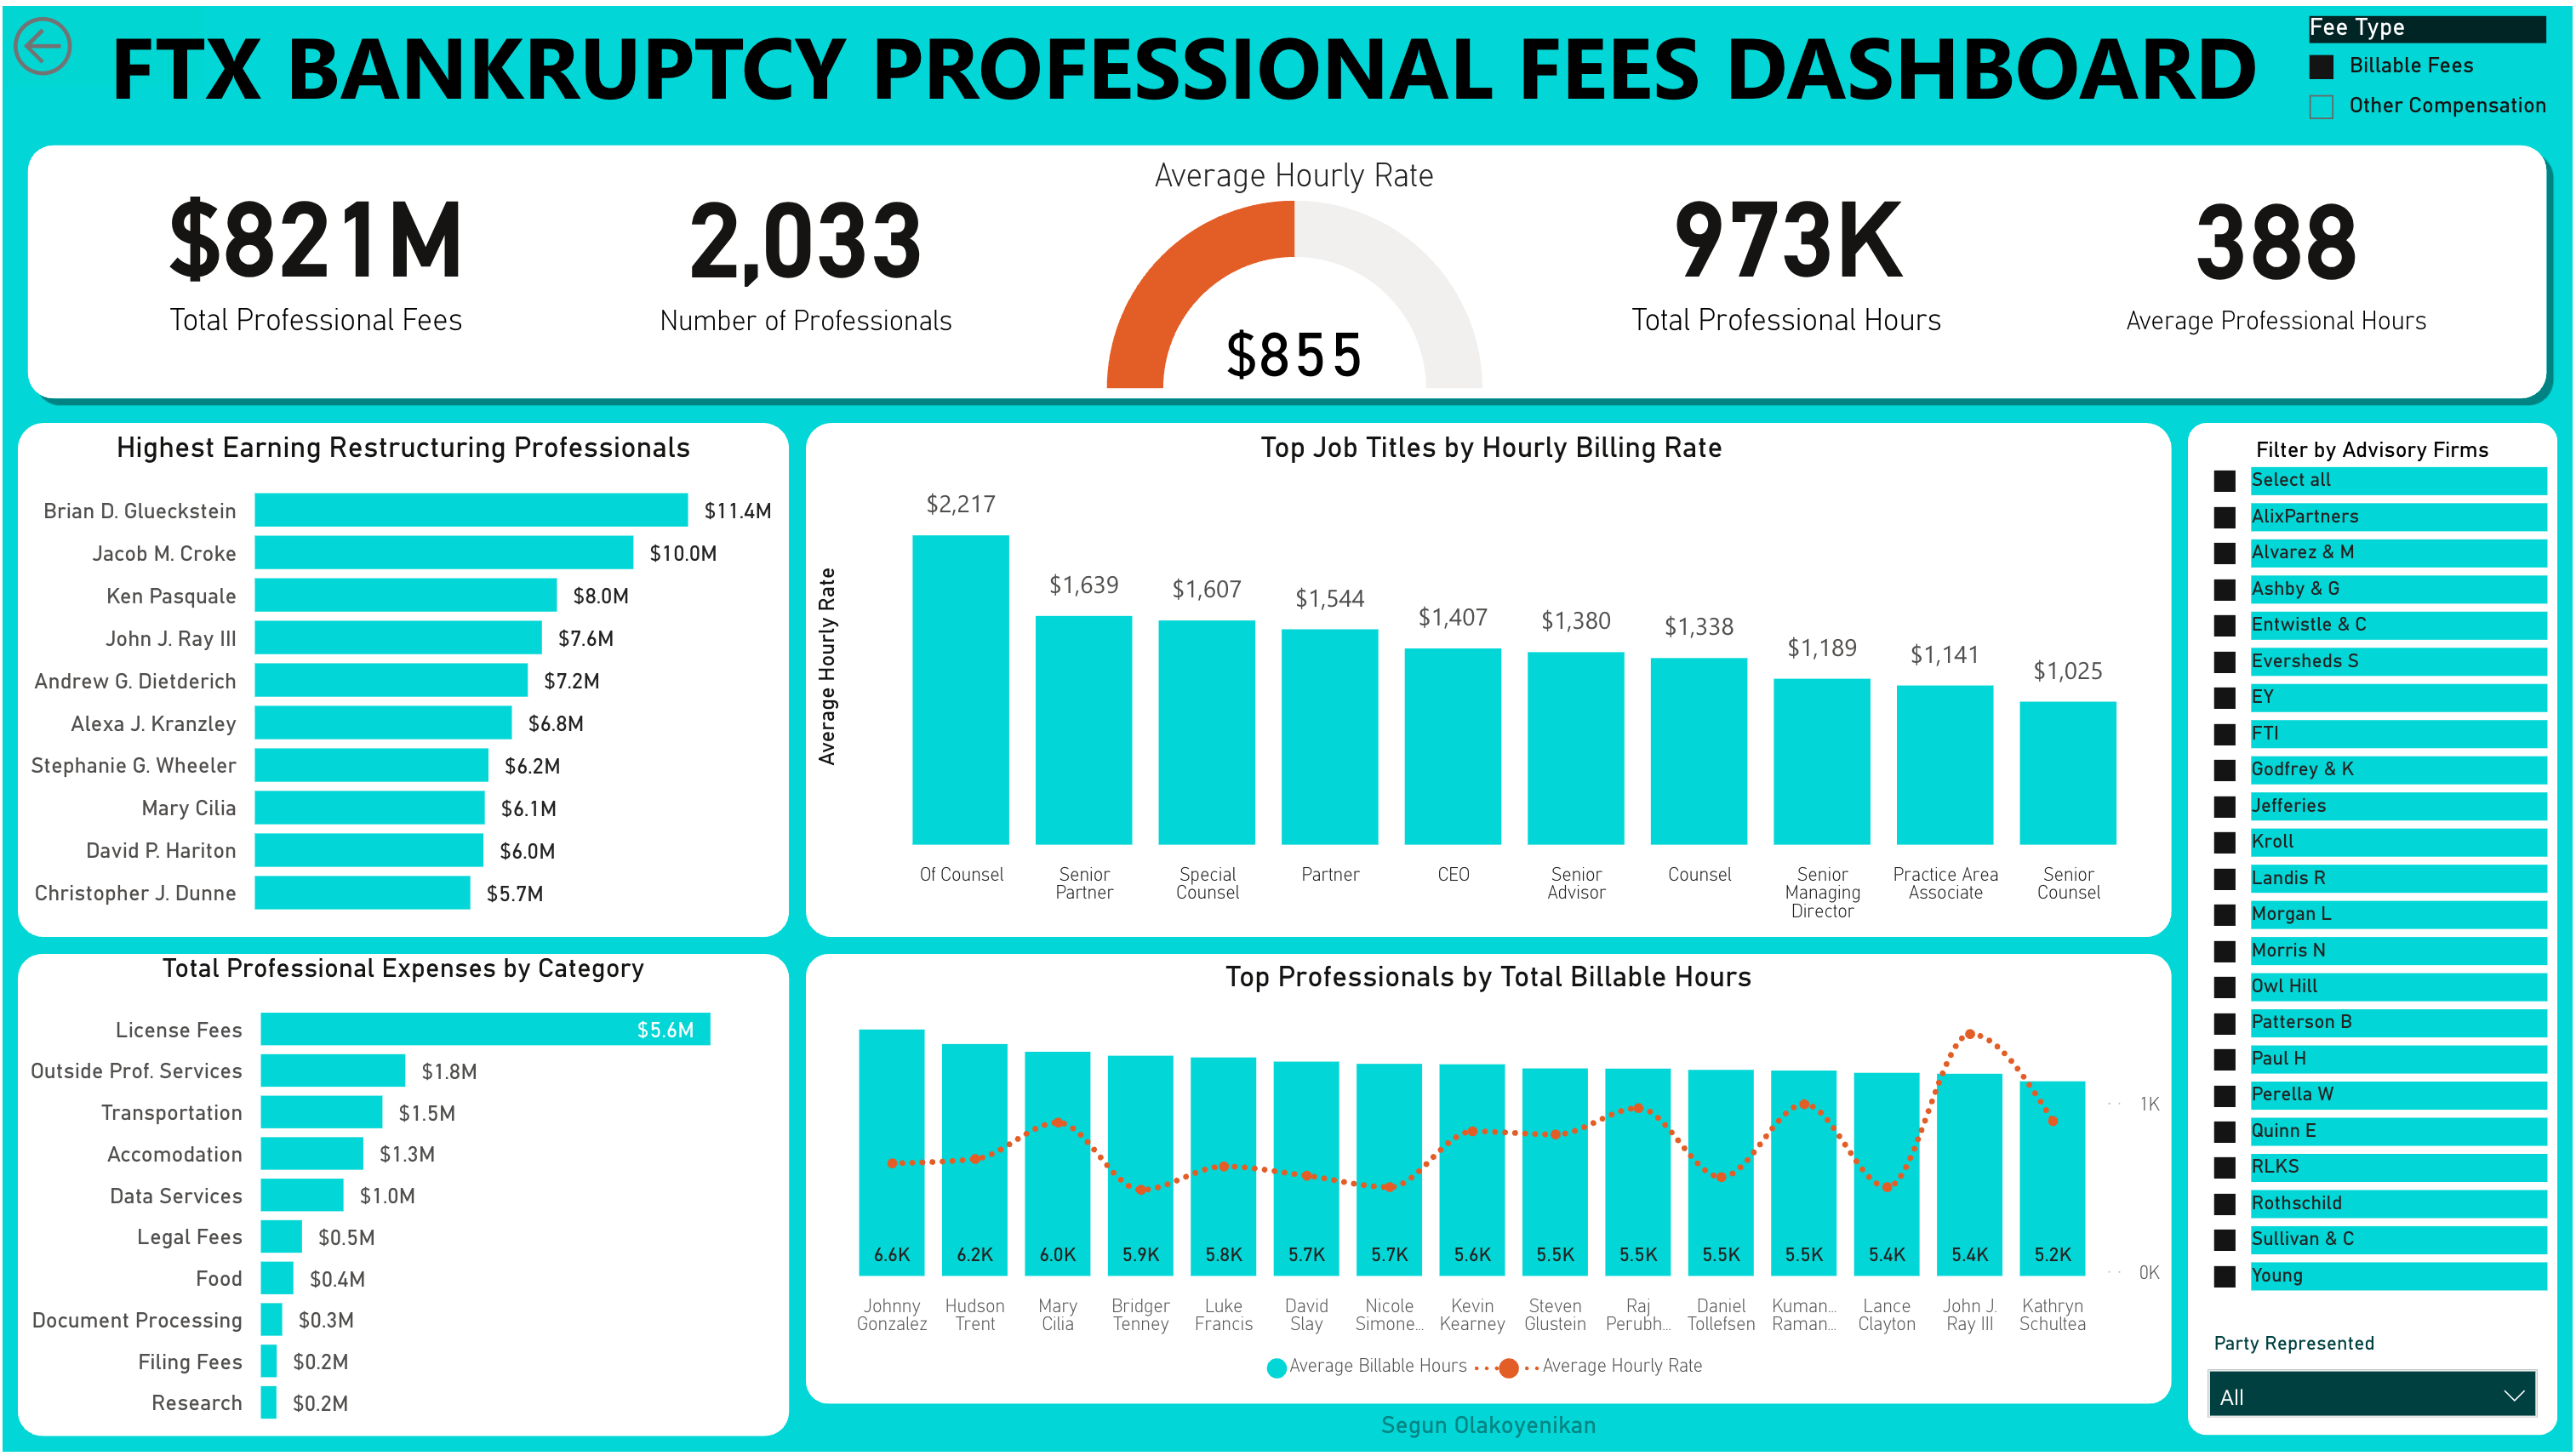

The page's visual inventory and layout, read from the dashboard file:
{"tool":"powerbi","page":{"name":"Professionals","canvas":[1280,720],"ordinal":1},"visuals":[{"type":"shape","box":[8,80,1264,120],"z":0},{"type":"cardVisual","fields":{"Data":["Count(Main1.Professional)"]},"box":[283.7,86.9,224,112],"z":1000},{"type":"shape","box":[8,208,360,504],"z":2000},{"type":"gauge","fields":{"Y":["Avg(Main1.Rate)"]},"box":[528,80,224,120],"z":3000},{"type":"cardVisual","fields":{"Data":["Sum(Main1.Fees)"]},"box":[43.7,86.9,224,112],"z":4000},{"type":"shape","box":[376,248,496,232],"z":5000},{"type":"shape","box":[376,488,496,184],"z":6000},{"type":"cardVisual","fields":{"Data":["Sum(Main1.Hours)"]},"box":[763.7,86.9,224,112],"z":7000},{"type":"shape","box":[880,208,392,504],"z":8000},{"type":"cardVisual","fields":{"Data":["Avg(Main1.Hours)"]},"box":[1003.7,86.9,224,112],"z":9000},{"type":"barChart","title":"Workforce across job titles","fields":{"Y":["Count(Main1.Professional)"],"Category":["main_title_short.Title"]},"box":[880,208,392,504],"z":10000},{"type":"textbox","box":[0,0,1152,80],"z":11000},{"type":"actionButton","box":[0,0,64,48],"z":12000},{"type":"barChart","title":"Top earning restructuring professionals ","fields":{"Category":["Main1.Professional"],"Y":["Sum(Main1.Fees)"]},"box":[8,208,360,504],"z":13000},{"type":"clusteredColumnChart","title":"Job titles where professionals charge the highest rate","fields":{"Category":["main_title_short.Title"],"Y":["Avg(Main1.Rate)"]},"box":[376,248,496,232],"z":14000},{"type":"slicer","fields":{"Values":["title_unique.Advisor"]},"box":[376,200,496,48],"z":15000},{"type":"actionButton","box":[1152,0,128,48],"z":16000},{"type":"clusteredColumnChart","title":"How top earning professionals charge per hour","fields":{"Category":["main_avg_rate.Professional"],"Y":["Avg(main_avg_rate.Average Rate)"]},"box":[376,488,488,184],"z":17000},{"type":"slicer","fields":{"Values":["main_title_short.Level"]},"box":[376,672,496,48],"z":18000}]}

Visuals, with their boxes in screenshot pixels (x1, y1, x2, y2), scaled from the page's 1280x720 canvas onto the 2576x1456 screenshot:
shape: left=16, top=162, right=2560, bottom=404
cardVisual - Count(Main1.Professional): left=571, top=176, right=1022, bottom=403
shape: left=16, top=420, right=740, bottom=1440
gauge - Avg(Main1.Rate): left=1063, top=162, right=1513, bottom=404
cardVisual - Sum(Main1.Fees): left=88, top=176, right=539, bottom=403
shape: left=757, top=501, right=1755, bottom=971
shape: left=757, top=987, right=1755, bottom=1359
cardVisual - Sum(Main1.Hours): left=1537, top=176, right=1988, bottom=403
shape: left=1771, top=420, right=2560, bottom=1440
cardVisual - Avg(Main1.Hours): left=2020, top=176, right=2470, bottom=403
"Workforce across job titles" barChart: left=1771, top=420, right=2560, bottom=1440
textbox: left=0, top=0, right=2318, bottom=162
actionButton: left=0, top=0, right=129, bottom=97
"Top earning restructuring professionals " barChart: left=16, top=420, right=740, bottom=1440
"Job titles where professionals charge the highest rate" clusteredColumnChart: left=757, top=501, right=1755, bottom=971
slicer - title_unique.Advisor: left=757, top=404, right=1755, bottom=501
actionButton: left=2318, top=0, right=2575, bottom=97
"How top earning professionals charge per hour" clusteredColumnChart: left=757, top=987, right=1739, bottom=1359
slicer - main_title_short.Level: left=757, top=1359, right=1755, bottom=1455
